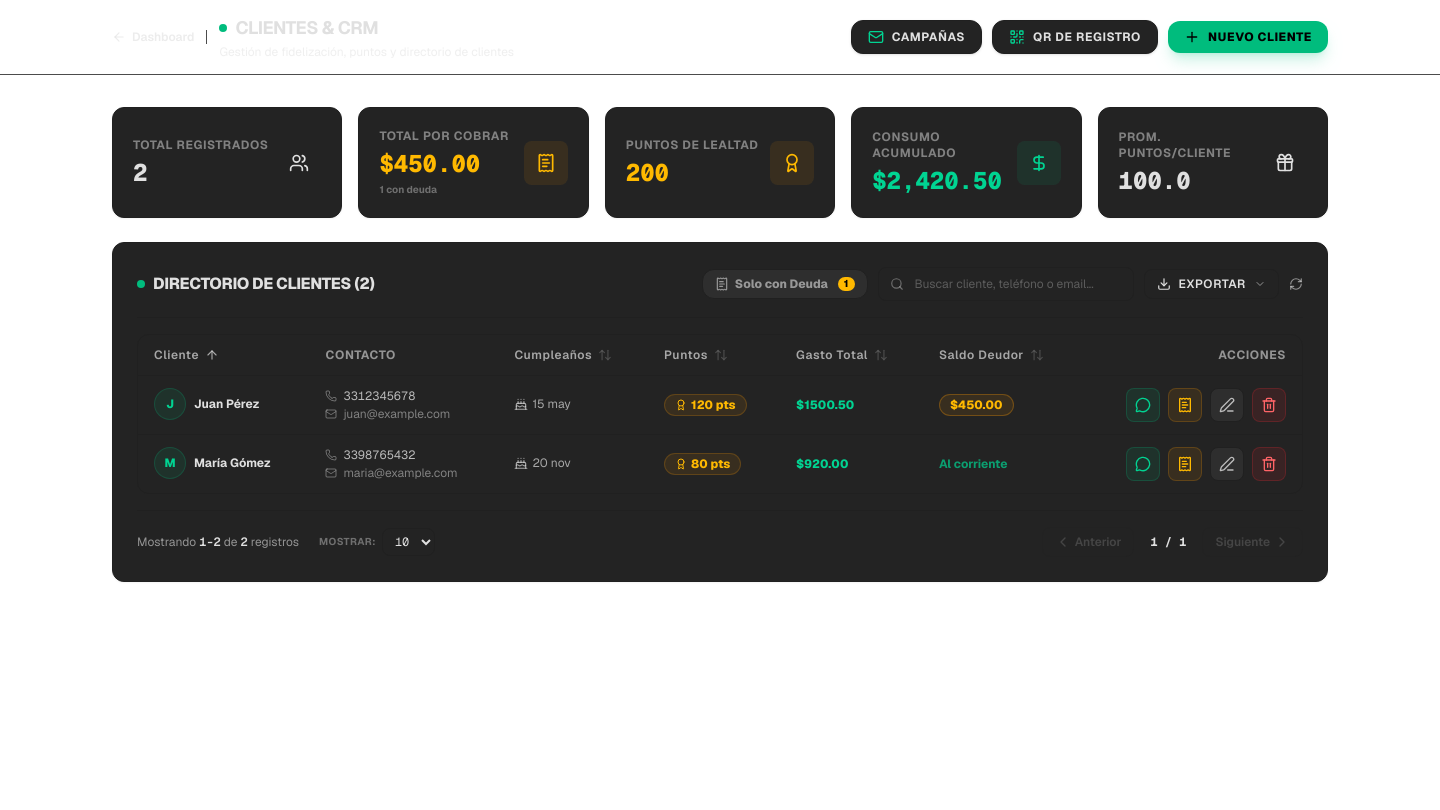
Test case: CustomersContent Component › should open Estado de Cuenta modal when clicking action button
Click the button with test id "account-statement-btn-cust-1" at [1185, 405], box [1168,388,1202,422]
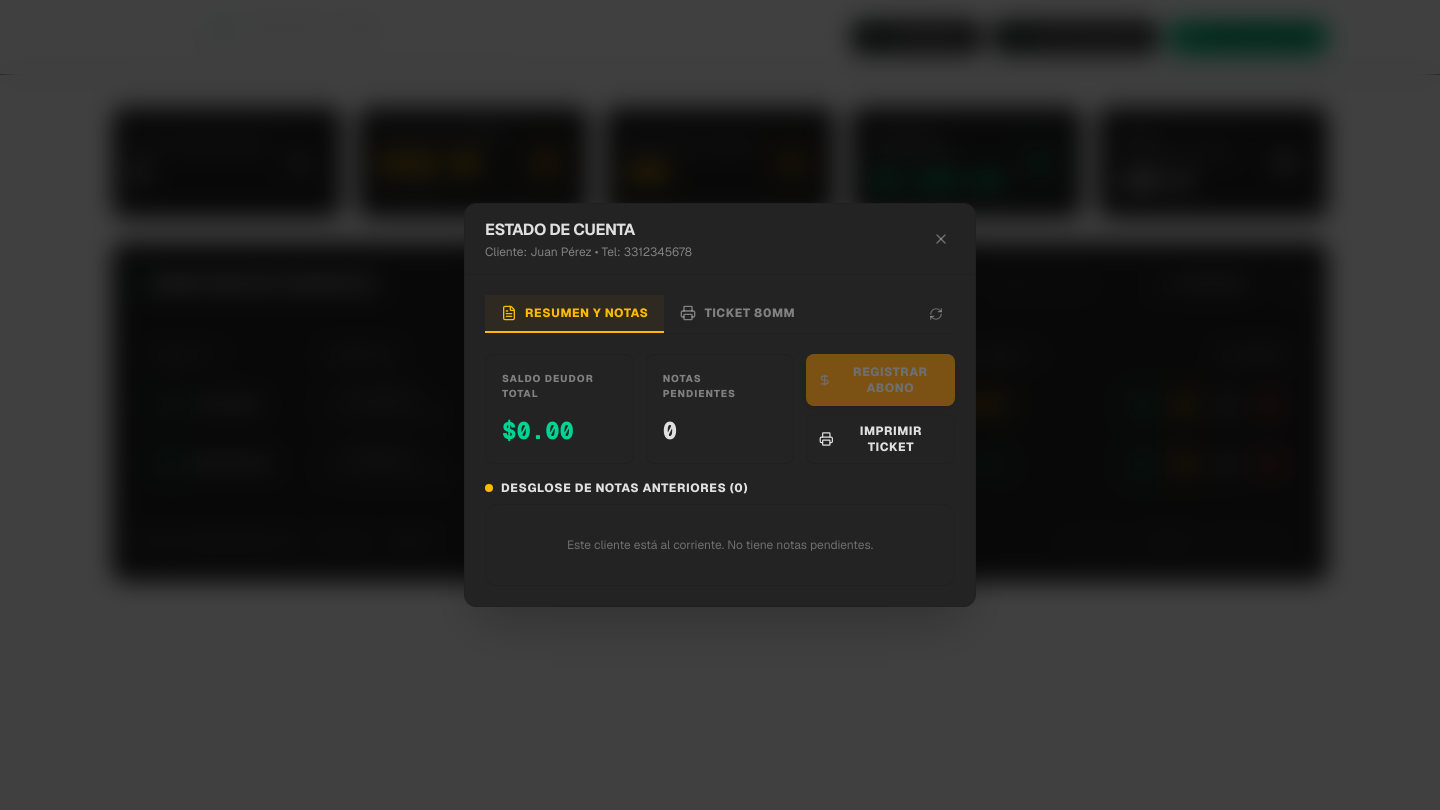
Expected: the heading "Estado de Cuenta" is shown, [485,219,635,240]
Expected: the text "Cliente: Juan Pérez • Tel: 3312345678" is shown, [485,244,692,260]
